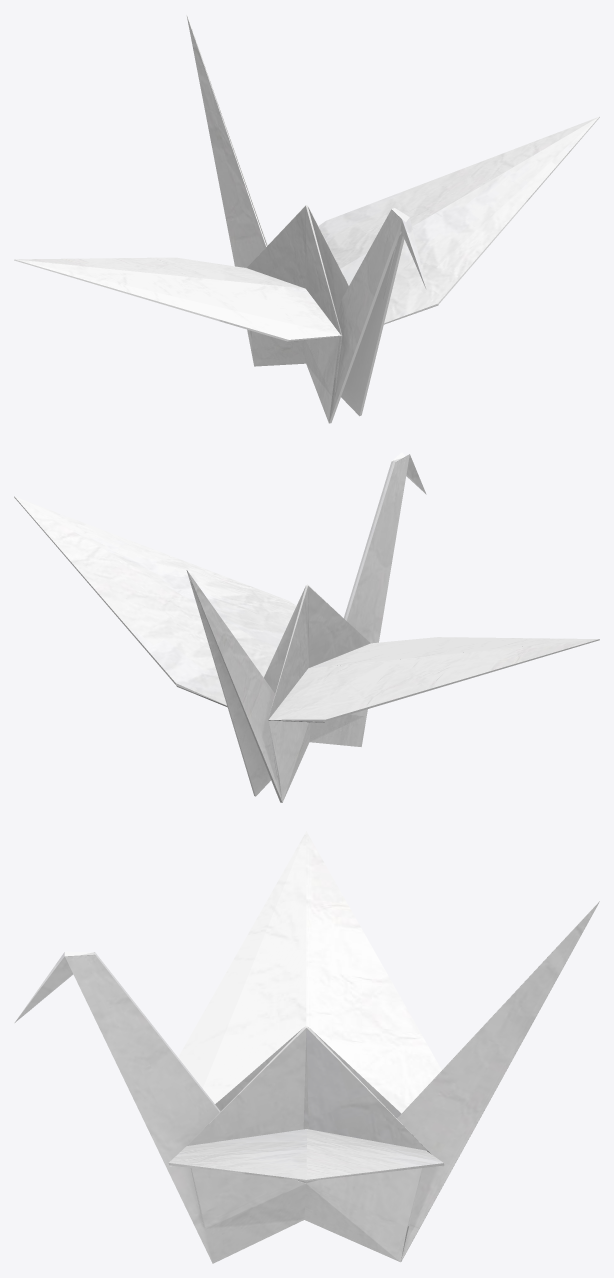
Rendered from Crane_to_Paper.glb.
3 views of the same model, one above another, from view 1: azimuth 30°, elevation 25°; view 2: azimuth 150°, elevation 25°; view 3: azimuth 270°, elevation 25° (orthographic). The views are drawn at different scales.
Visible parts, largest first — view 1: Object_3; view 2: Object_3; view 3: Object_3.
Boxes of the visible parts, left/top/right/bottom form: Object_3: left=14, top=14, right=599, bottom=423; Object_3: left=14, top=452, right=599, bottom=802; Object_3: left=14, top=831, right=599, bottom=1263.
Size of the model in its own units: 3.23 by 1.53 by 2.29.
Materials: 1 (1 with a texture image).
